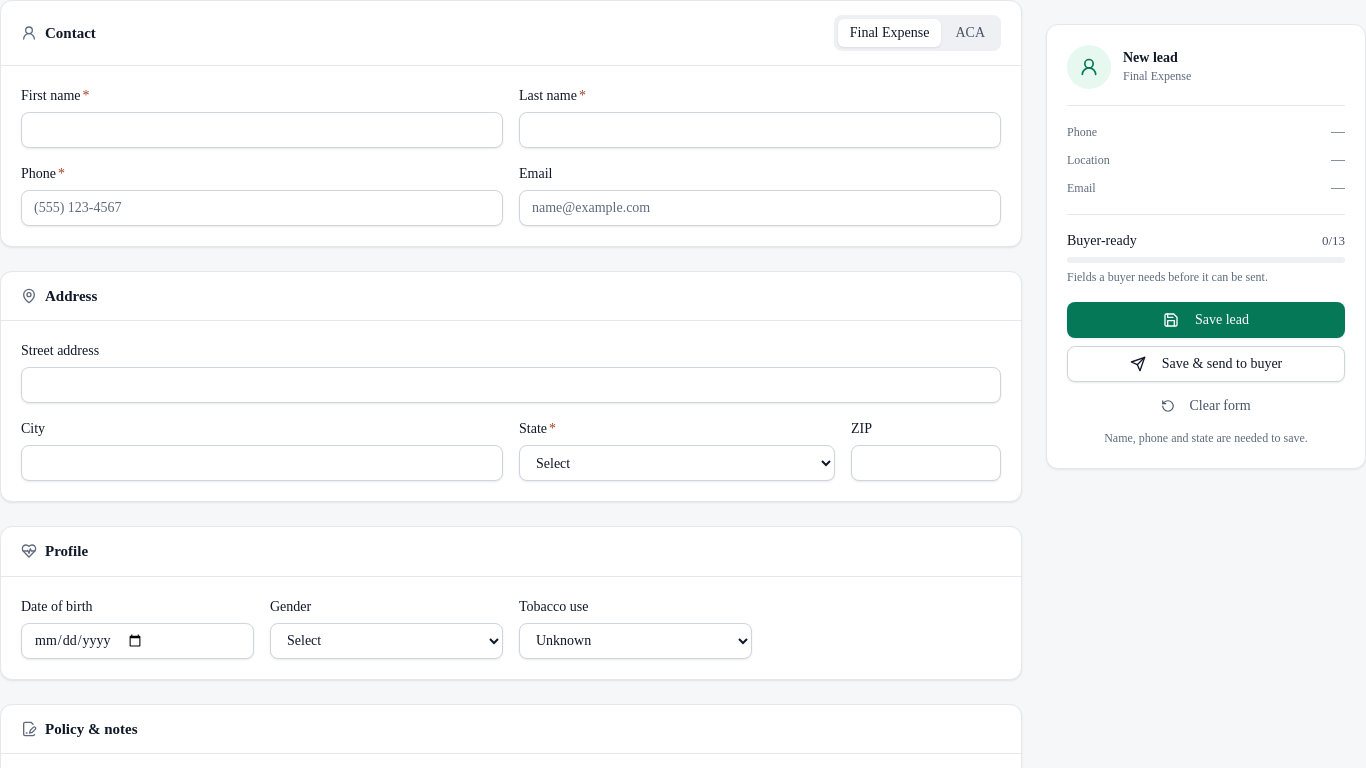
Test: manual lead form › outlines what a buyer still needs and opens the opt-in record, without posting
Step 1. Type "Carol" into the field labelled "First name*" → (262, 130), box [21, 112, 503, 148]
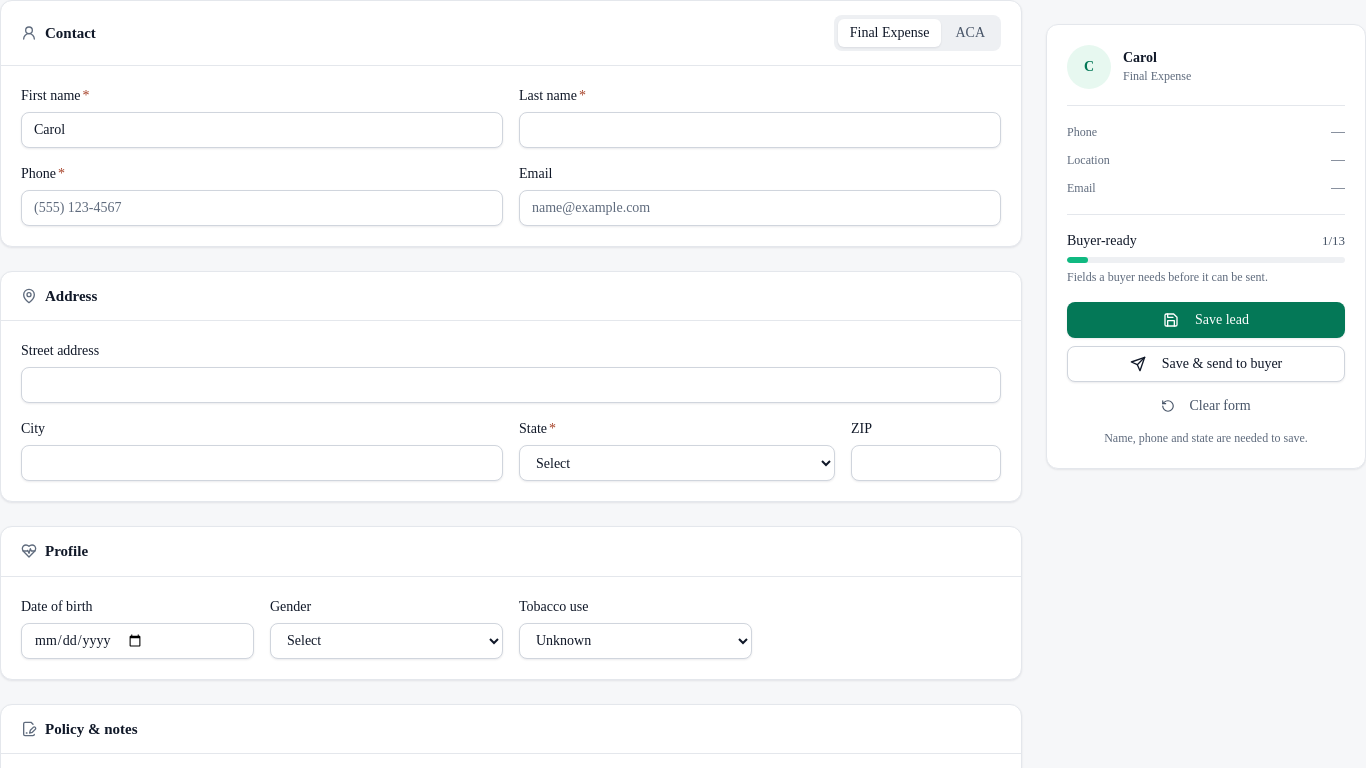
Step 2. Type "Smith" into the field labelled "Last name*" → (760, 130), box [519, 112, 1001, 148]
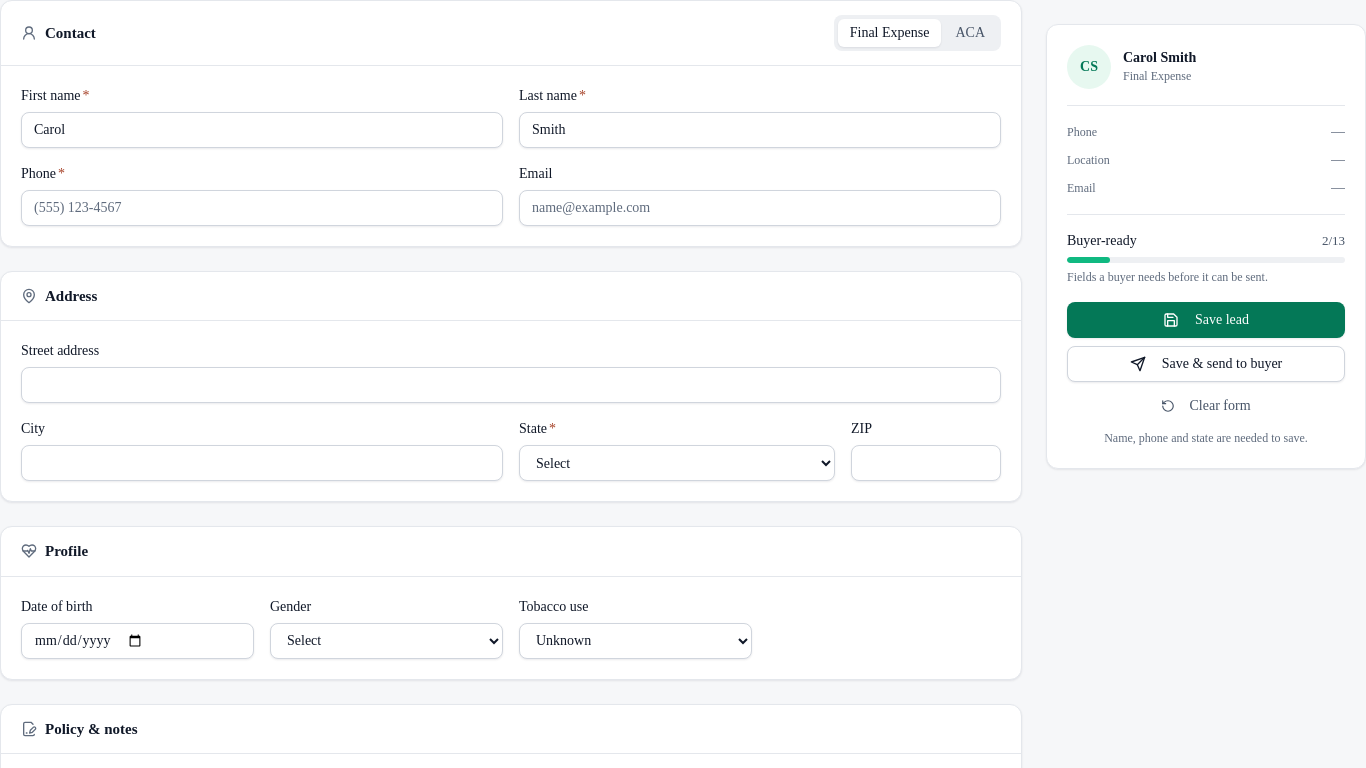
Step 3. Type "8655551234" into the field labelled "Phone*" → (262, 208), box [21, 190, 503, 226]
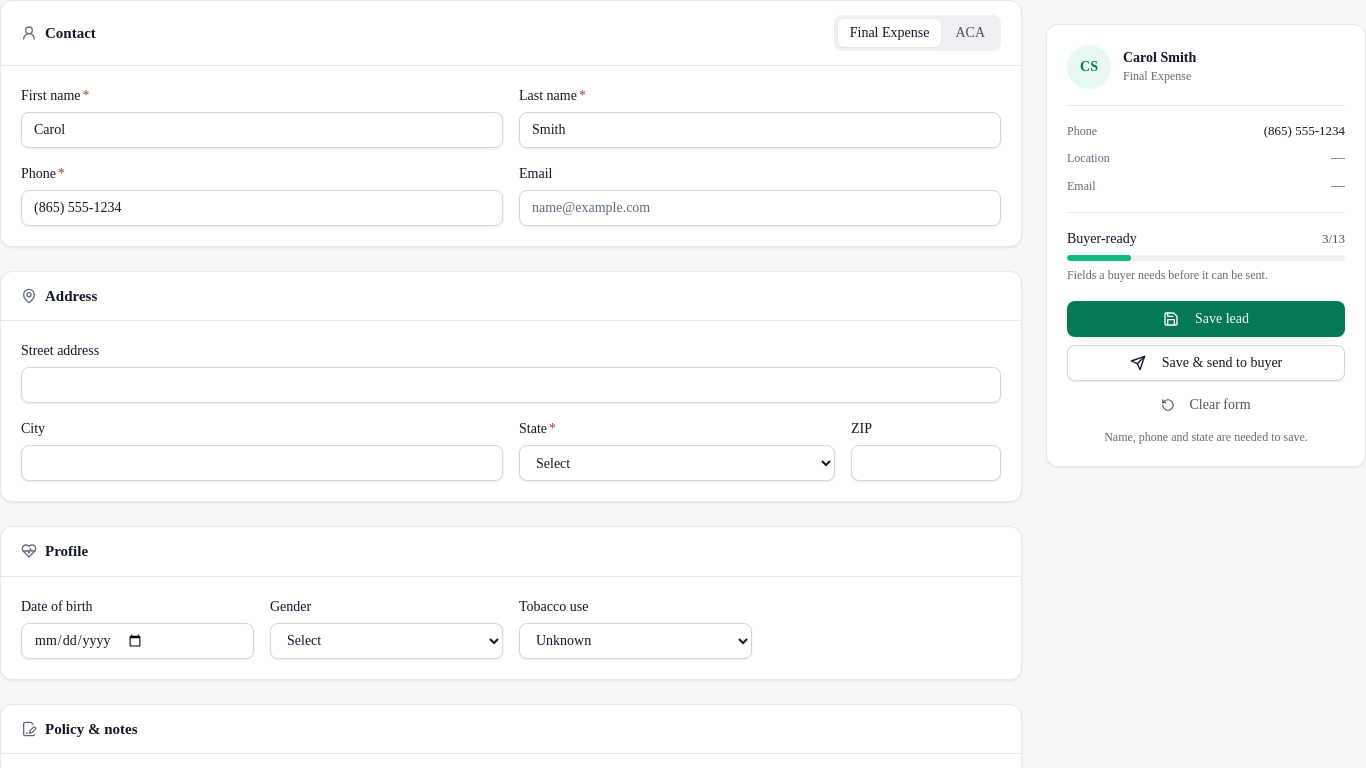
Step 4. Select "Tennessee" in the dropdown labelled "State*" → (677, 463), box [519, 445, 835, 481]
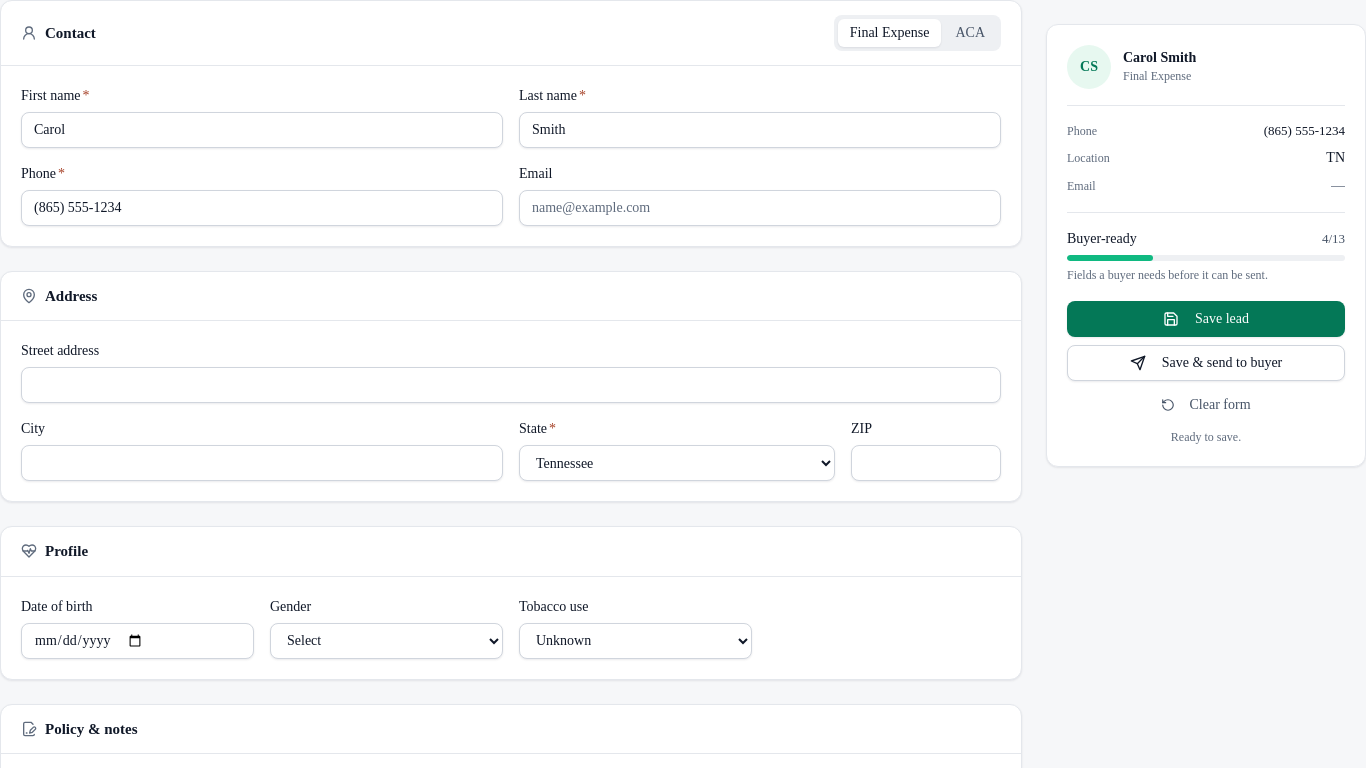
Step 5. Click the button "Save & send to buyer" → (1206, 363), box [1067, 345, 1345, 381]
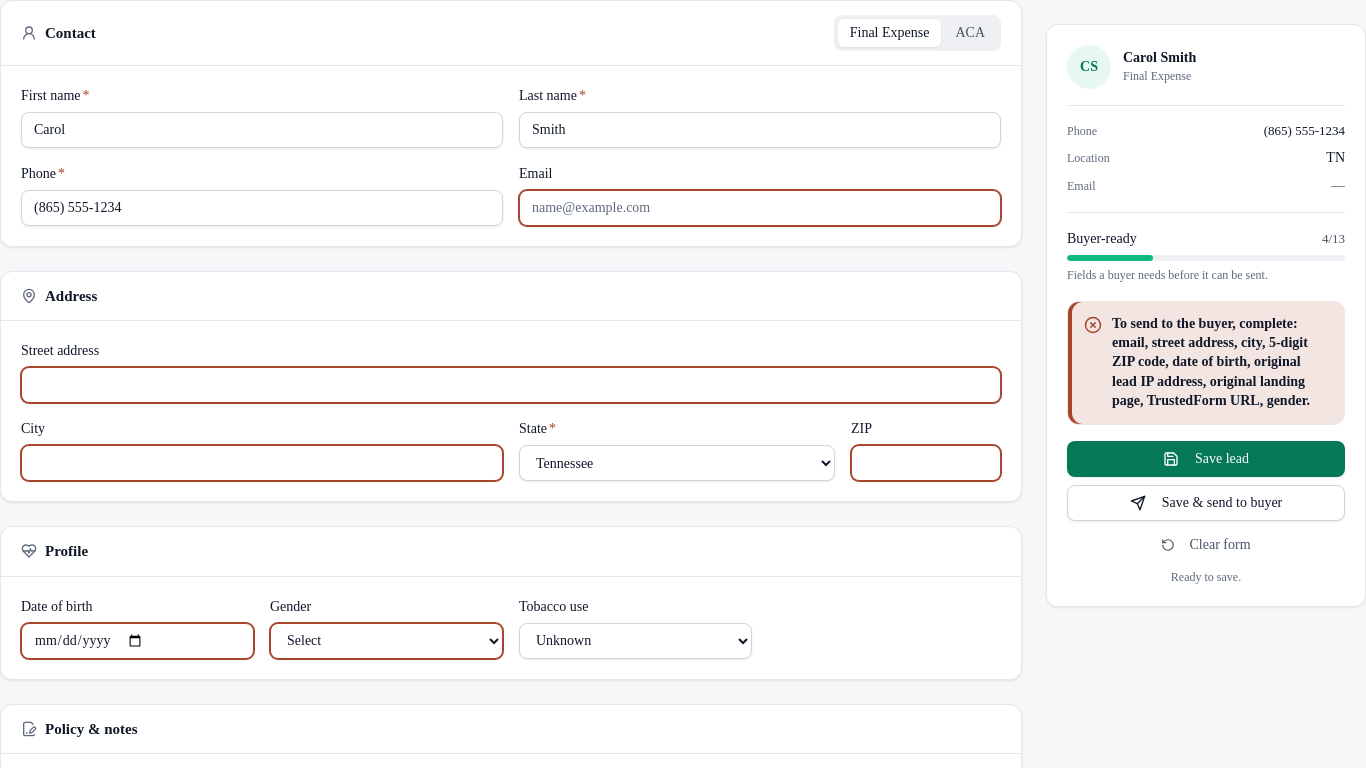
Result: the heading "To send to the buyer, complete: email" is shown at [1112, 316, 1310, 408]
